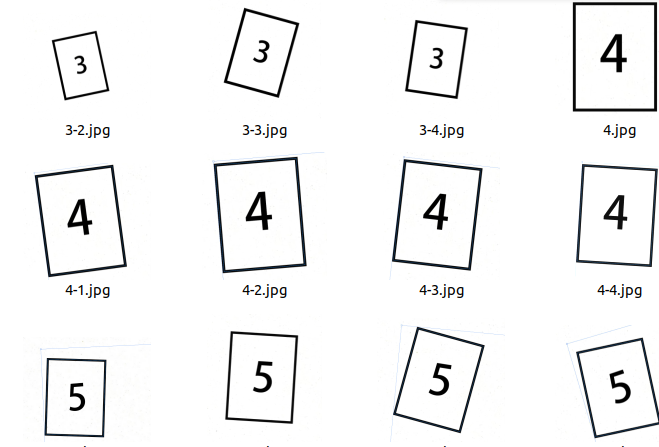five: (238, 345, 283, 405), (52, 370, 96, 426), (595, 360, 642, 412), (424, 348, 454, 410), (56, 375, 93, 421)
four: (415, 172, 457, 253), (235, 181, 286, 242), (55, 191, 105, 249), (591, 22, 636, 82), (595, 182, 640, 241)
three: (249, 27, 276, 73), (423, 38, 451, 78), (66, 47, 95, 84)
